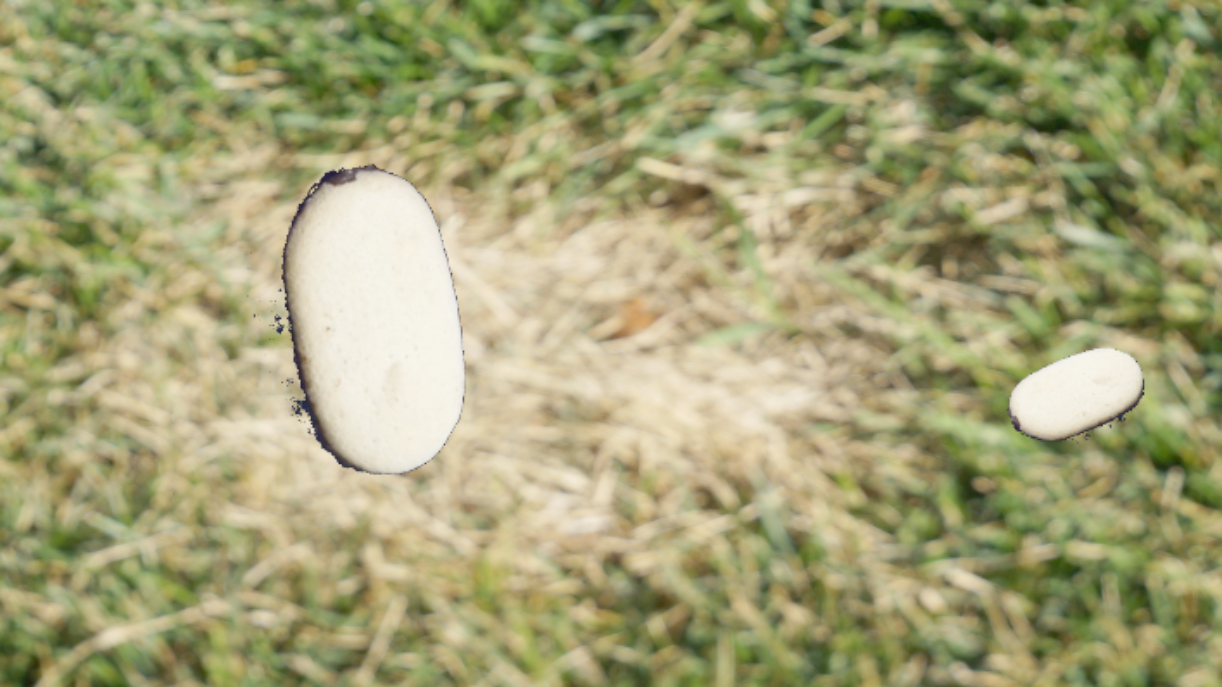test: (176, 127, 553, 509), (995, 320, 1156, 477)
